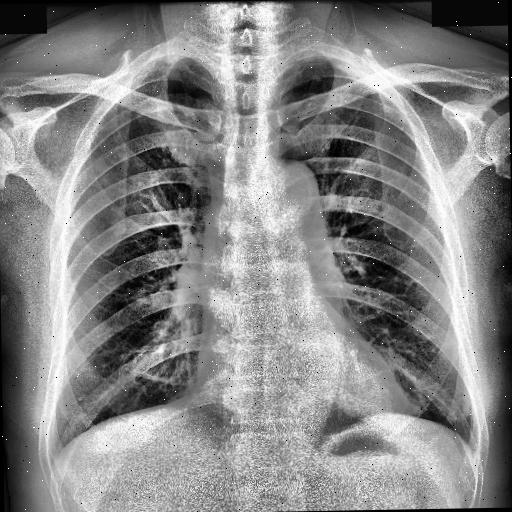0- Aortic enlargement: (256, 155, 338, 248), (244, 156, 318, 247), (246, 157, 320, 230)
11- Pleural thickening: (130, 54, 196, 88), (287, 56, 361, 82)
3- Cardiomegaly: (192, 342, 416, 428)
